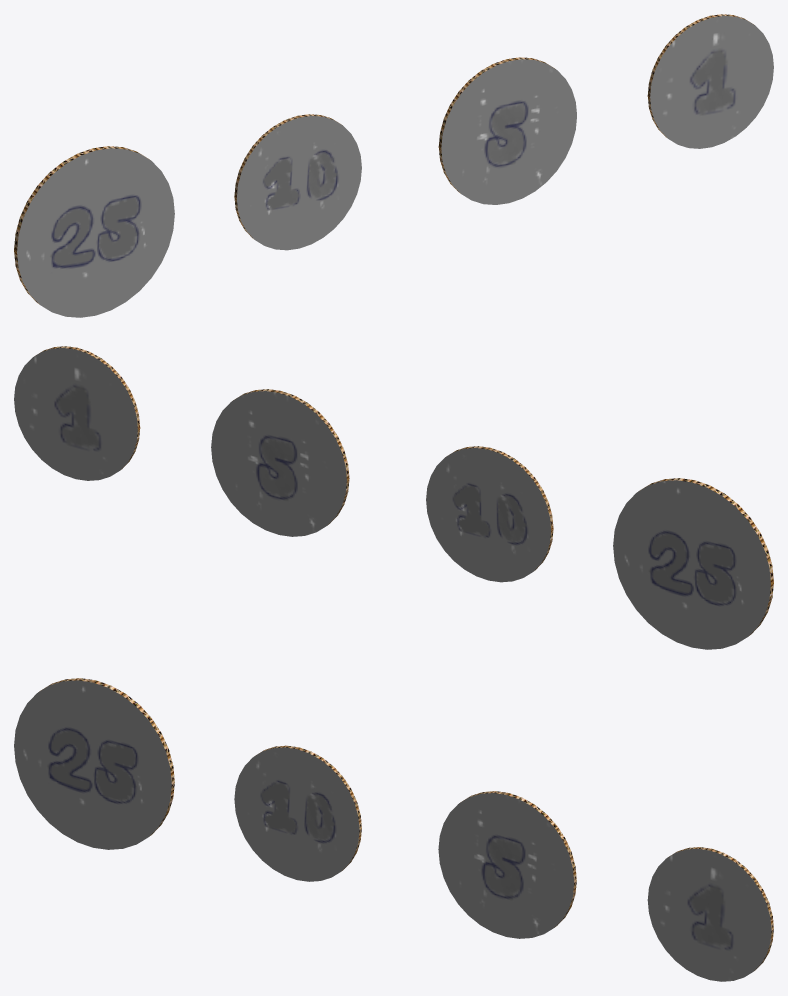
File: coins.fbx
3 renders of one model, top to bottom at view 1: azimuth 30°, elevation 25°; view 2: azimuth 150°, elevation 25°; view 3: azimuth 330°, elevation 25°, orthographic.
Parts seen in each view (by area): view 1: Circle, Circle.002, Circle.001, Circle.003; view 2: Circle, Circle.002, Circle.001, Circle.003; view 3: Circle, Circle.002, Circle.001, Circle.003.
Part boxes in pixels (x1,y1,x2,y2): Circle: (14, 146, 174, 317); Circle.002: (438, 57, 576, 204); Circle.001: (234, 114, 361, 250); Circle.003: (647, 14, 773, 148); Circle: (613, 478, 773, 649); Circle.002: (211, 389, 349, 536); Circle.001: (426, 446, 553, 582); Circle.003: (14, 346, 140, 480); Circle: (14, 678, 174, 849); Circle.002: (438, 791, 576, 938); Circle.001: (234, 745, 361, 881); Circle.003: (647, 847, 773, 981).
Bounding box in the file's own units: 48.99 × 10.21 × 0.3382.
